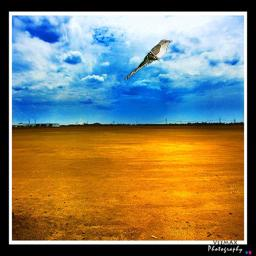Cuckoo: (123, 39, 174, 82)
